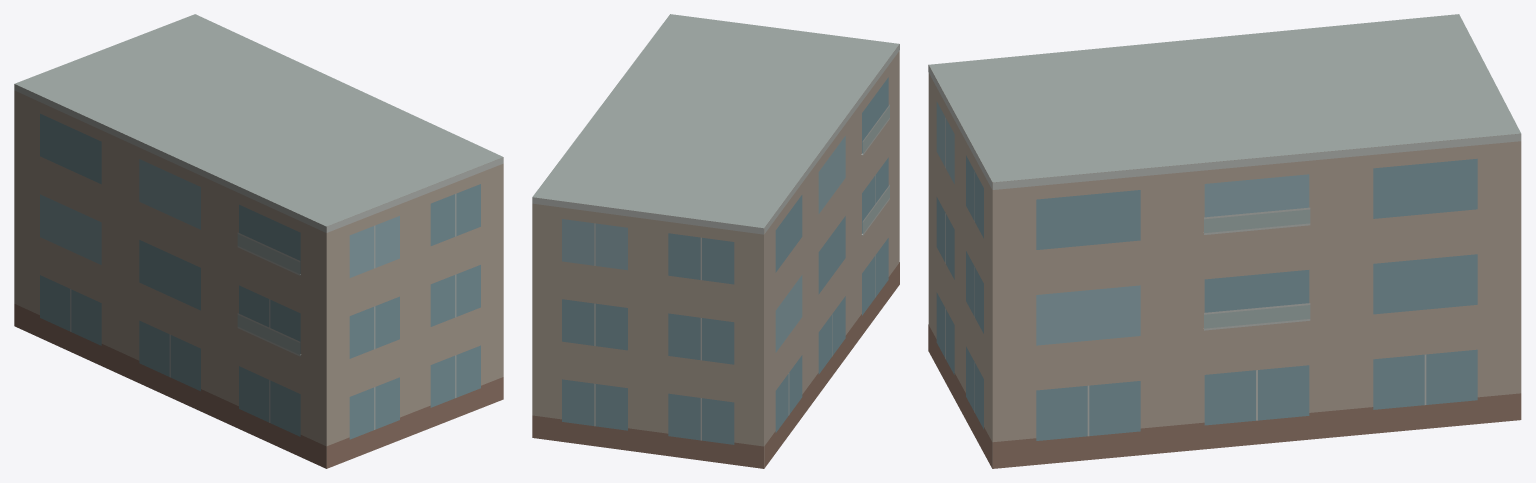
Rendered from survey-upis-32979439.glb.
3 views of the same model, side by side, from view 1: azimuth 30°, elevation 25°; view 2: azimuth 150°, elevation 25°; view 3: azimuth 270°, elevation 25° (orthographic). The views are drawn at different scales.
Visible parts, largest first — view 1: survey-upis-32979439.tmp; view 2: survey-upis-32979439.tmp; view 3: survey-upis-32979439.tmp.
Part boxes in pixels (x1,y1,x2,y2): survey-upis-32979439.tmp: (14, 14, 503, 468); survey-upis-32979439.tmp: (532, 14, 899, 468); survey-upis-32979439.tmp: (928, 14, 1521, 468).
Bounding box in the file's own units: 11.55 × 9.15 × 17.17.
